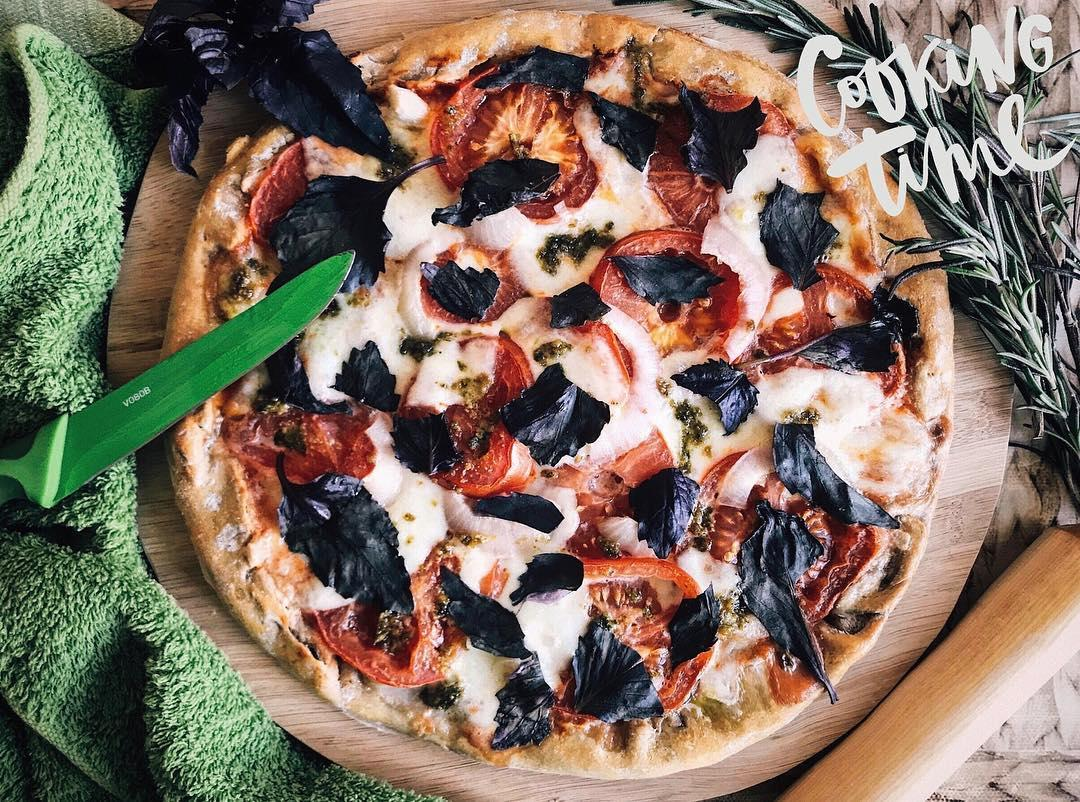Arugula: (275, 470, 415, 616), (276, 176, 396, 304), (772, 420, 885, 536), (498, 359, 610, 464), (562, 615, 660, 723), (746, 573, 835, 684), (438, 155, 558, 217), (755, 186, 831, 283), (678, 90, 760, 179), (443, 572, 530, 655), (789, 319, 907, 378), (612, 253, 722, 309), (678, 353, 755, 431), (492, 653, 558, 740), (479, 43, 591, 93), (666, 575, 725, 660), (638, 469, 694, 548), (593, 96, 655, 166), (330, 349, 401, 410), (420, 260, 496, 314), (473, 492, 564, 533), (512, 548, 585, 597), (392, 419, 459, 472), (760, 516, 808, 587), (263, 345, 315, 410)
Broccoli: (666, 396, 708, 460), (532, 230, 612, 262), (408, 330, 440, 355)
Pizza: (175, 16, 950, 764)
Tomatoes: (420, 52, 608, 207), (693, 449, 866, 605), (748, 270, 914, 420), (569, 553, 714, 709), (398, 333, 533, 481), (319, 546, 464, 683), (593, 228, 737, 354), (538, 425, 673, 551), (655, 83, 775, 223), (236, 406, 384, 475), (419, 235, 519, 322), (248, 143, 330, 247)
